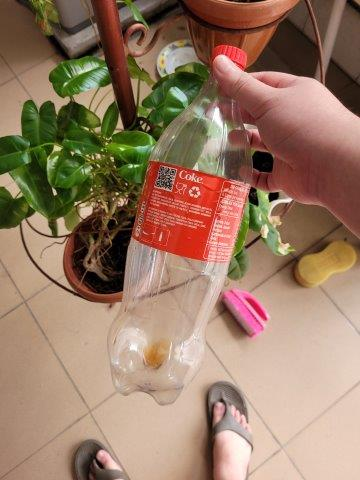botolplastik: (108, 47, 253, 405)
